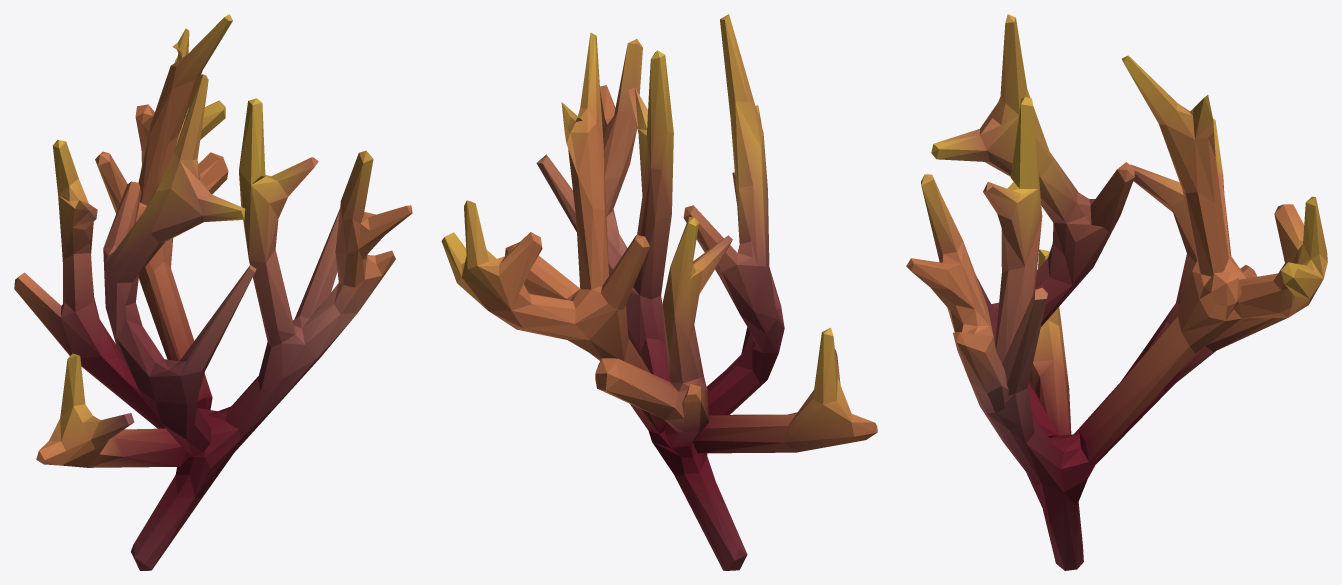
Rendered from N7_012_SanHobasic.glb.
The picture shows the model from 3 angles, left to right: view 1: azimuth 30°, elevation 25°; view 2: azimuth 150°, elevation 25°; view 3: azimuth 270°, elevation 25°; orthographic projection. The views are drawn at different scales.
Visible parts, largest first — view 1: San Ho; view 2: San Ho; view 3: San Ho.
Boxes of the visible parts, x1=… form: San Ho: x1=14, y1=14, x2=412, y2=570; San Ho: x1=441, y1=14, x2=877, y2=570; San Ho: x1=906, y1=14, x2=1327, y2=570.
Size of the model in its own units: 0.5 by 0.75 by 0.5.
